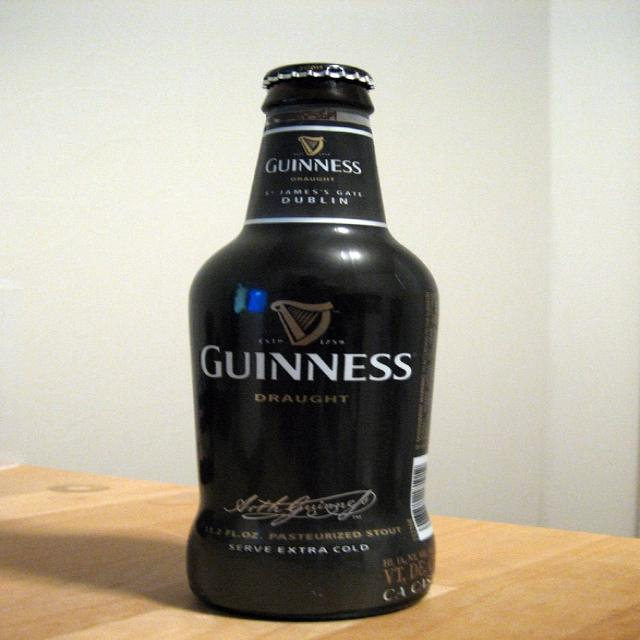guiness: (195, 299, 419, 385), (262, 134, 366, 177)
